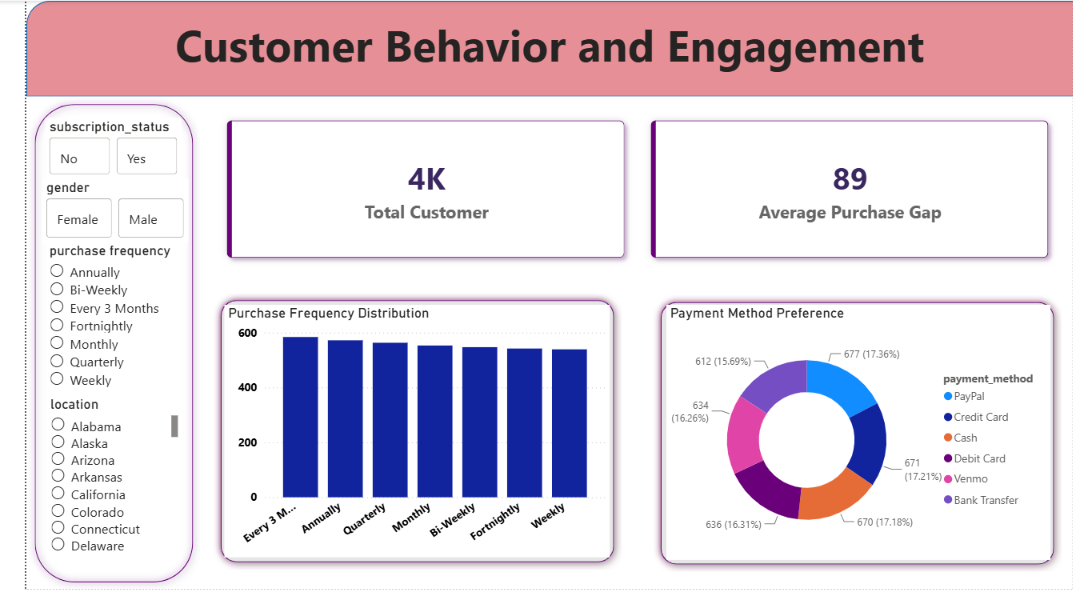

What the dashboard file says about the page in this screenshot:
{"tool":"powerbi","page":{"name":"Page 3","canvas":[1280,720],"ordinal":2},"visuals":[{"type":"shape","box":[0,0,1500.9,117.1],"z":0},{"type":"textbox","box":[0,12.4,1280.3,149.3],"z":1000},{"type":"cardVisual","fields":{"Data":["public customer.Subscribed Customer","public customer.Average Purchase Gap"]},"box":[216.4,117.4,1063.9,226.2],"z":2000},{"type":"shape","box":[228.9,357.1,498.9,338.4],"z":3000},{"type":"shape","box":[766.7,359.5,498.9,338.7],"z":4000},{"type":"clusteredColumnChart","title":"Purchase Frequency Distribution","fields":{"Category":["public customer.frequency_of_purchases"],"Y":["CountNonNull(public customer.customer_id)"]},"box":[242.6,372,471.5,308.6],"z":5000},{"type":"donutChart","title":"Payment Method Preference","fields":{"Category":["public customer.payment_method"],"Y":["CountNonNull(public customer.customer_id)"]},"box":[782.6,371.7,469.6,311.8],"z":6000},{"type":"shape","box":[1.3,117.1,211.6,602.7],"z":7000},{"type":"advancedSlicerVisual","fields":{"Values":["public customer.subscription_status"]},"box":[23.6,142.8,166.4,74.7],"z":8000},{"type":"listSlicer","fields":{"Values":["public customer.frequency_of_purchases"]},"box":[23.6,294.8,166.4,212.2],"z":9000},{"type":"advancedSlicerVisual","fields":{"Values":["public customer.gender"]},"box":[19.7,217.5,178.2,77.3],"z":10000},{"type":"listSlicer","fields":{"Values":["public customer.location"]},"box":[24.9,483.4,166.4,200.5],"z":11000}]}

Visuals, with their boxes in screenshot pixels (x1, y1, x2, y2), scaled from the page's 1280x720 canvas onto the 1073x590 screenshot:
shape: x1=0, y1=0, x2=1072, y2=96
textbox: x1=0, y1=10, x2=1072, y2=133
cardVisual - public customer.Subscribed Customer x public customer.Average Purchase Gap: x1=181, y1=96, x2=1072, y2=282
shape: x1=192, y1=293, x2=610, y2=570
shape: x1=643, y1=295, x2=1061, y2=572
"Purchase Frequency Distribution" clusteredColumnChart: x1=203, y1=305, x2=599, y2=558
"Payment Method Preference" donutChart: x1=656, y1=305, x2=1050, y2=560
shape: x1=1, y1=96, x2=178, y2=589
advancedSlicerVisual - public customer.subscription_status: x1=20, y1=117, x2=159, y2=178
listSlicer - public customer.frequency_of_purchases: x1=20, y1=242, x2=159, y2=415
advancedSlicerVisual - public customer.gender: x1=17, y1=178, x2=166, y2=242
listSlicer - public customer.location: x1=21, y1=396, x2=160, y2=560
